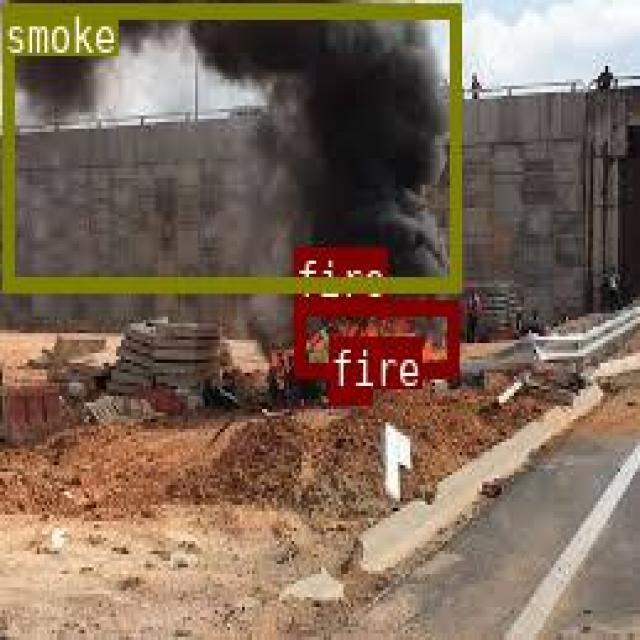fire: (292, 298, 455, 373), (328, 389, 369, 402)
smoke: (1, 0, 459, 290)
